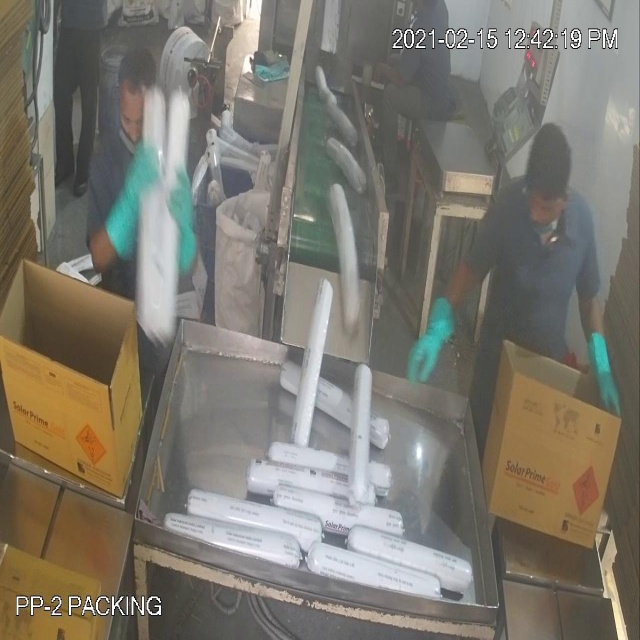Guantes: (391, 286, 461, 401), (104, 130, 161, 262), (574, 320, 633, 439)
